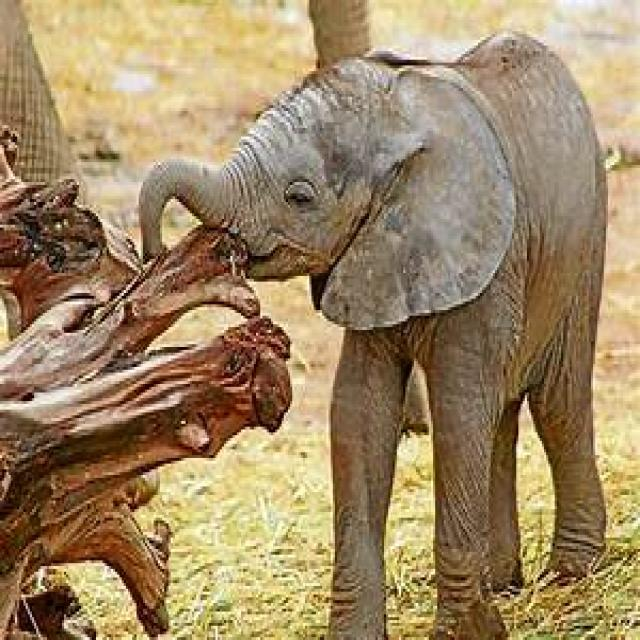elephant: (137, 31, 608, 640)
